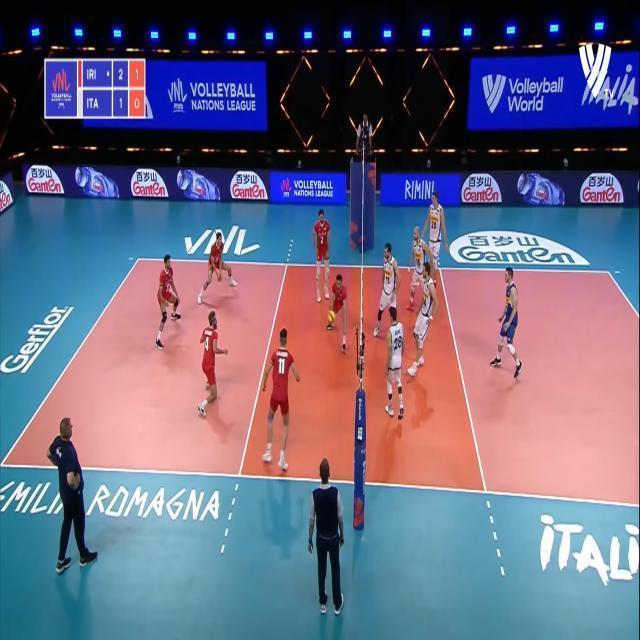volleyball: (326, 309, 336, 322)
